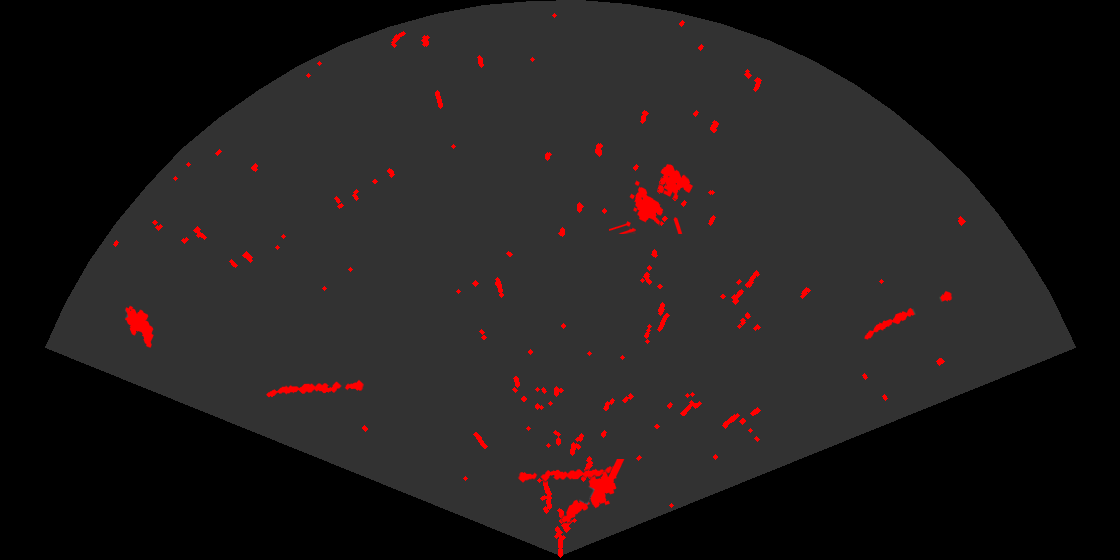AUV: (124, 304, 155, 349)
cage: (609, 162, 695, 234)
chain: (863, 290, 954, 341), (265, 378, 364, 399), (517, 465, 618, 484)
frogman: (560, 459, 626, 524)
